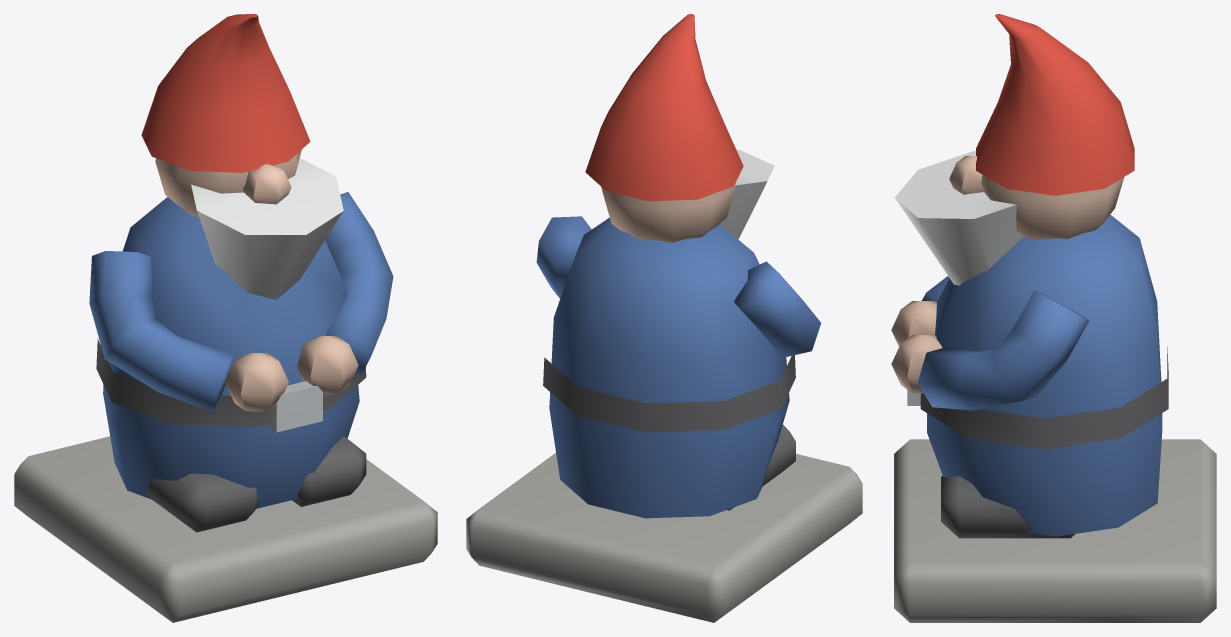
The model's file is gnome.glb.
3 views of the same model, side by side, from view 1: azimuth 30°, elevation 25°; view 2: azimuth 150°, elevation 25°; view 3: azimuth 270°, elevation 25° (orthographic). The views are drawn at different scales.
Visible parts, largest first — view 1: suburb_gnome; view 2: suburb_gnome; view 3: suburb_gnome.
Part boxes in pixels (left/top/right/bottom): suburb_gnome: left=14, top=14, right=437, bottom=622; suburb_gnome: left=466, top=14, right=862, bottom=622; suburb_gnome: left=891, top=14, right=1216, bottom=622.
Bounding box in the file's own units: 0.2401 × 0.448 × 0.242.
